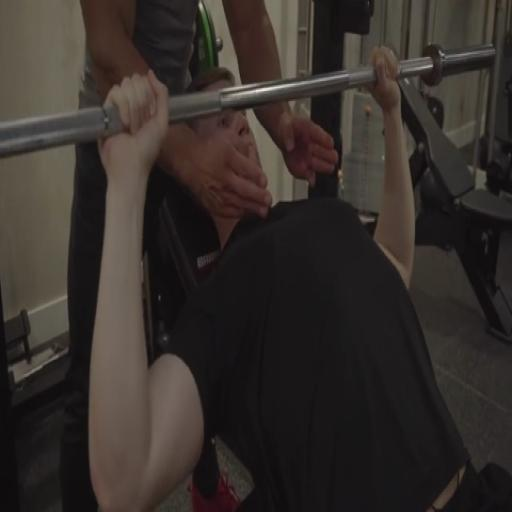exercise: (85, 42, 511, 510)
